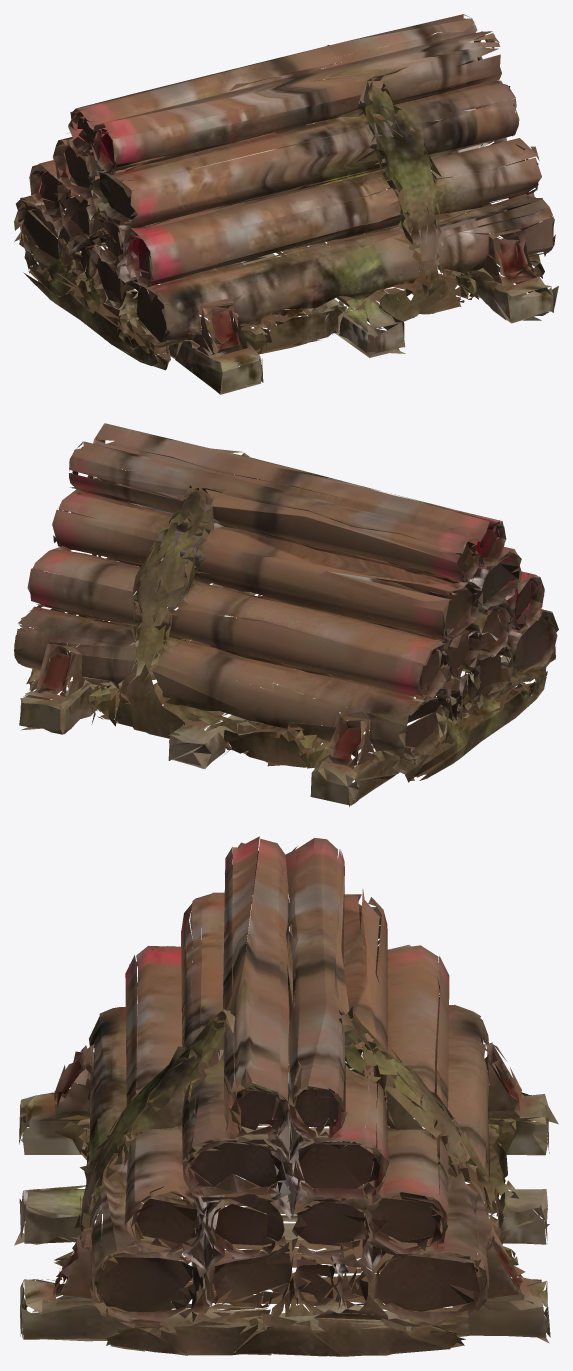
The model's file is prop_pipe_stack.glb.
3 renders of one model, top to bottom at view 1: azimuth 30°, elevation 25°; view 2: azimuth 150°, elevation 25°; view 3: azimuth 270°, elevation 25°, orthographic. The views are drawn at different scales.
Visible parts, largest first — view 1: prop_pipe_stack; view 2: prop_pipe_stack; view 3: prop_pipe_stack.
Part boxes in pixels (left/top/right/bottom): prop_pipe_stack: left=14, top=14, right=558, bottom=394; prop_pipe_stack: left=14, top=423, right=558, bottom=806; prop_pipe_stack: left=14, top=836, right=558, bottom=1356.
Bounding box in the file's own units: 7.94 × 4.03 × 6.95.
1 material, 1 textured.
